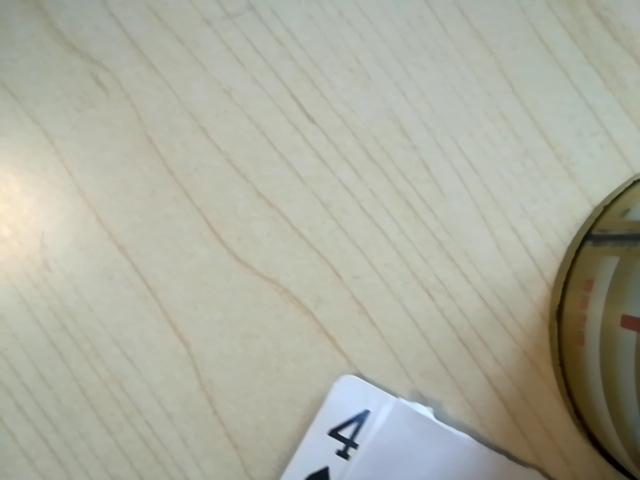ht 4: (290, 405, 381, 480)
